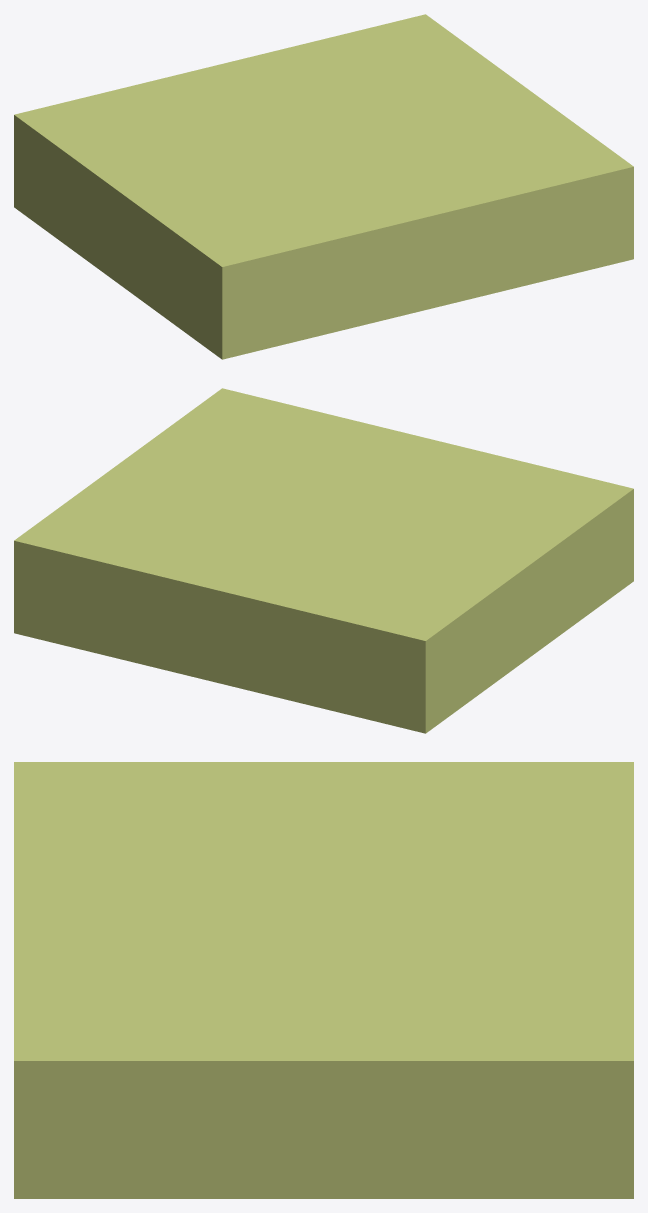
Rendered from Kneipe_Bar JAM VR.fbx.
The picture shows the model from 3 angles, top to bottom: view 1: azimuth 30°, elevation 25°; view 2: azimuth 150°, elevation 25°; view 3: azimuth 270°, elevation 25°; orthographic projection. The views are drawn at different scales.
Visible parts, largest first — view 1: walls; view 2: walls; view 3: walls.
Boxes of the visible parts, x1,y1,x2,y2 form: walls: (14, 14, 633, 359); walls: (14, 388, 633, 733); walls: (14, 762, 633, 1198).
Size of the model in its own units: 1681 by 362 by 1472.
